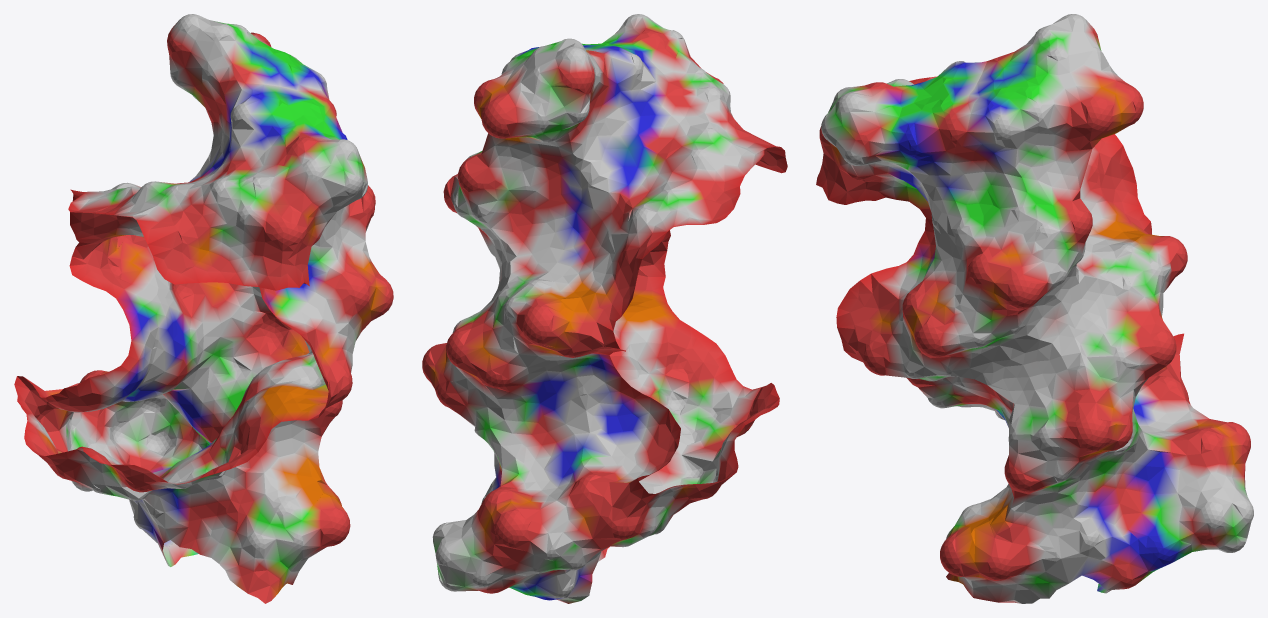
Rendered from MDB_2ky8_dna_surf.dae.
The picture shows the model from 3 angles, left to right: view 1: azimuth 30°, elevation 25°; view 2: azimuth 150°, elevation 25°; view 3: azimuth 270°, elevation 25°; orthographic projection. The views are drawn at different scales.
Parts seen in each view (by area): view 1: node; view 2: node; view 3: node.
Boxes of the visible parts, x1,y1,x2,y2 form: node: (14,14,393,603); node: (422,14,787,603); node: (816,14,1253,603).
Bounding box in the file's own units: 25.43 × 42.83 × 30.03.
